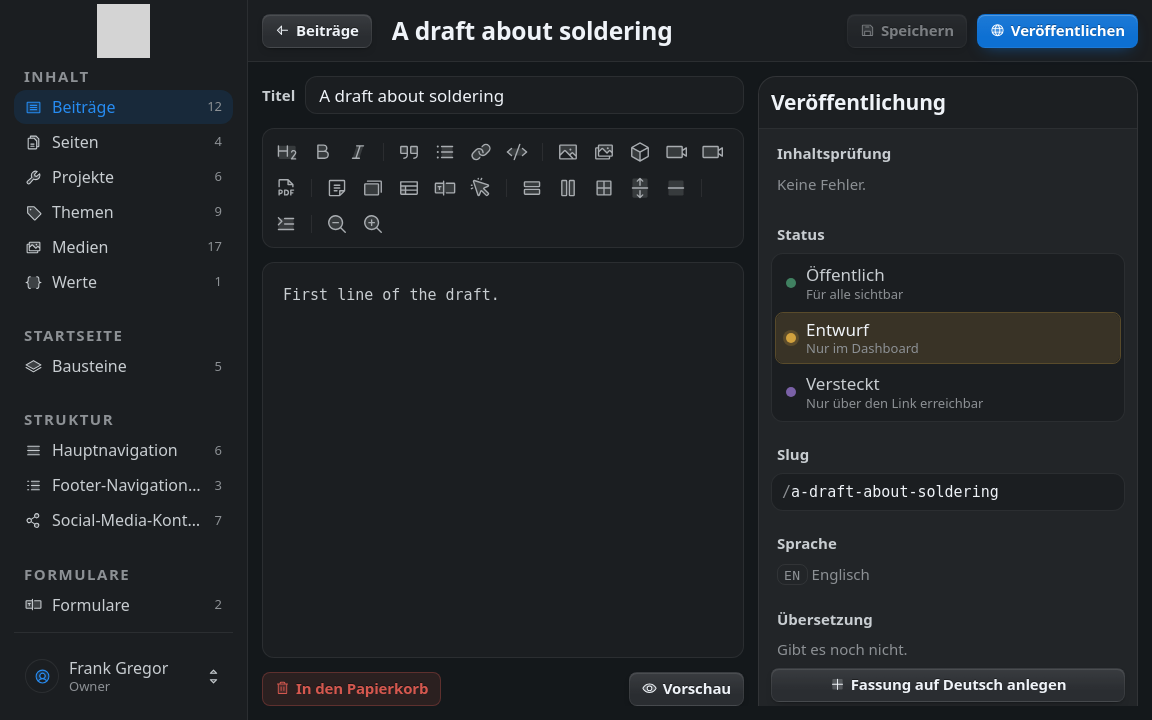
Test case: dashboard shell › publishes a draft with what is written, and then shows it as public
Click the button "Veröffentlichen". click: (1057,31)
box: left=977, top=14, right=1138, bottom=48
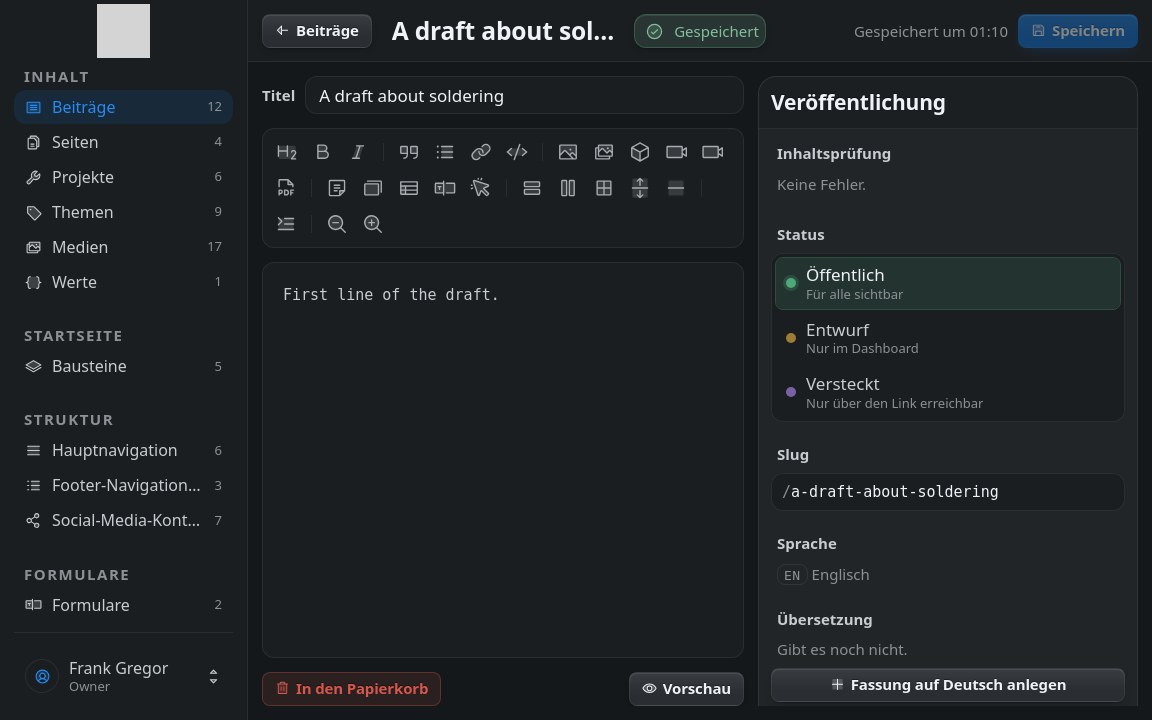
Expected: the button "Veröffentlichen" is gone
Expected: the message shows "Gespeichert um", left=854, top=21, right=1008, bottom=41
